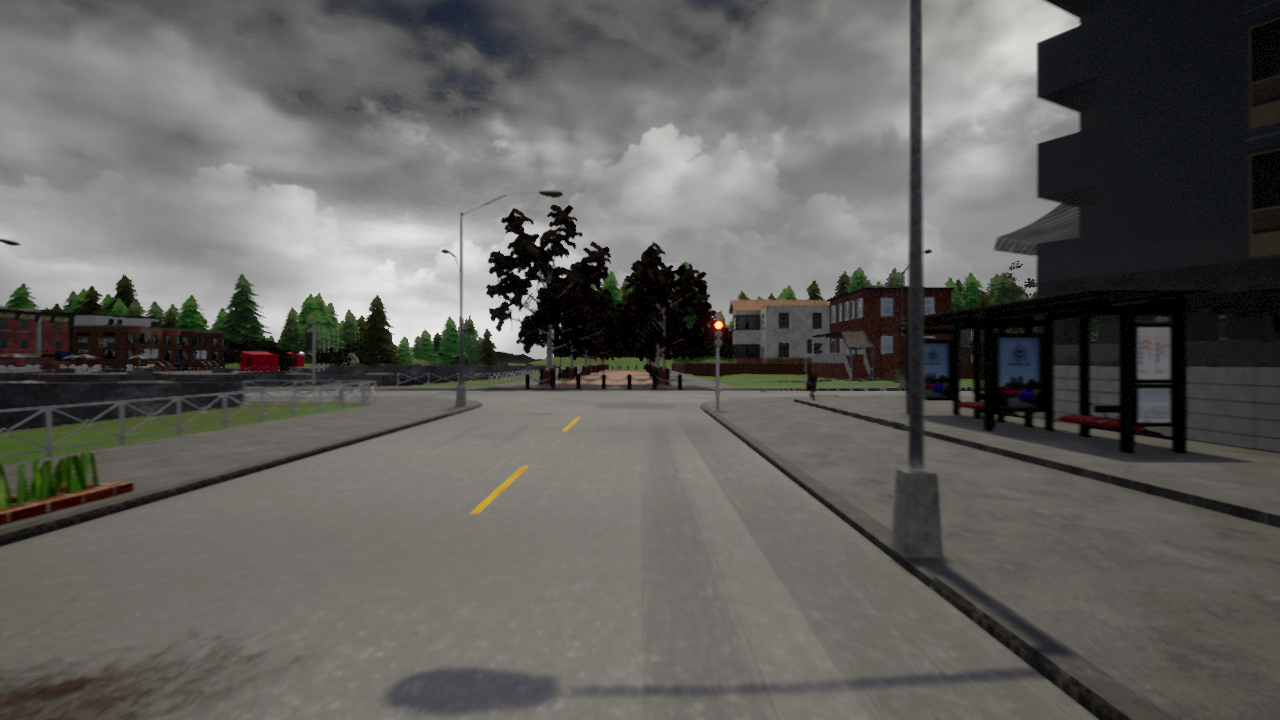red: (713, 319, 724, 348)
